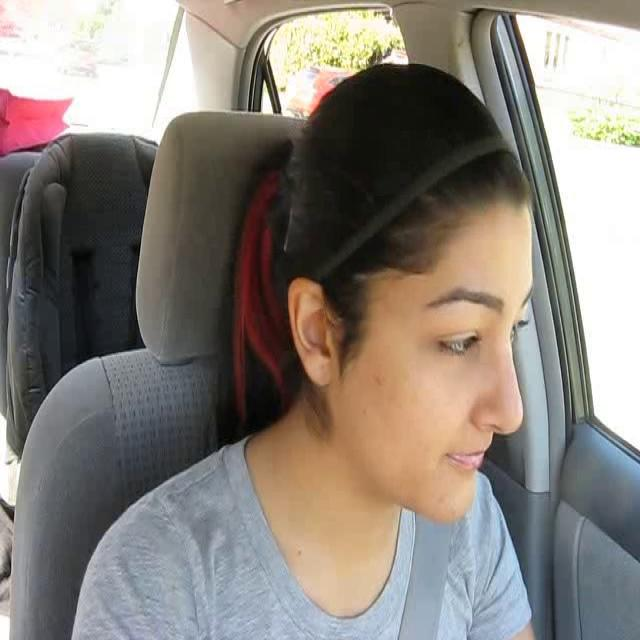close: (442, 439, 488, 476)
